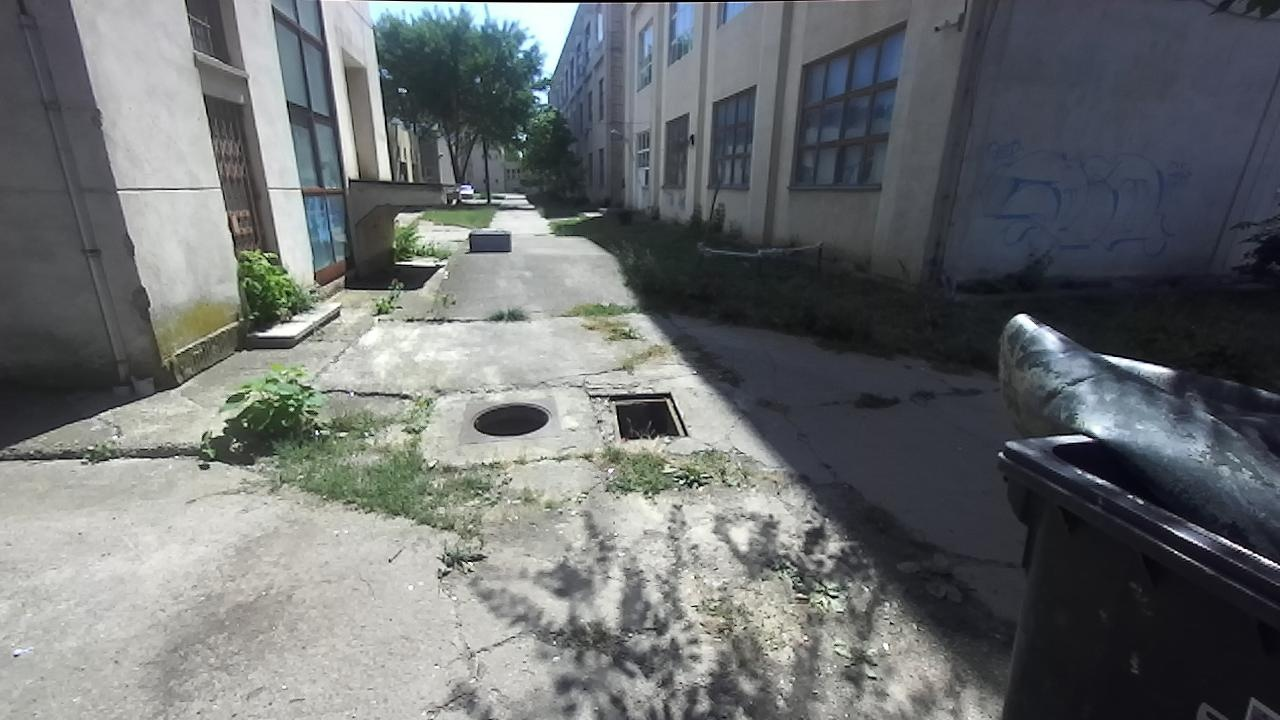drain: (591, 394, 691, 442), (468, 401, 556, 435)
